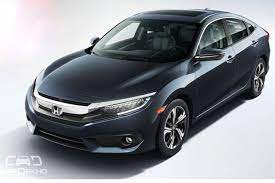Honda: (24, 4, 270, 158)
